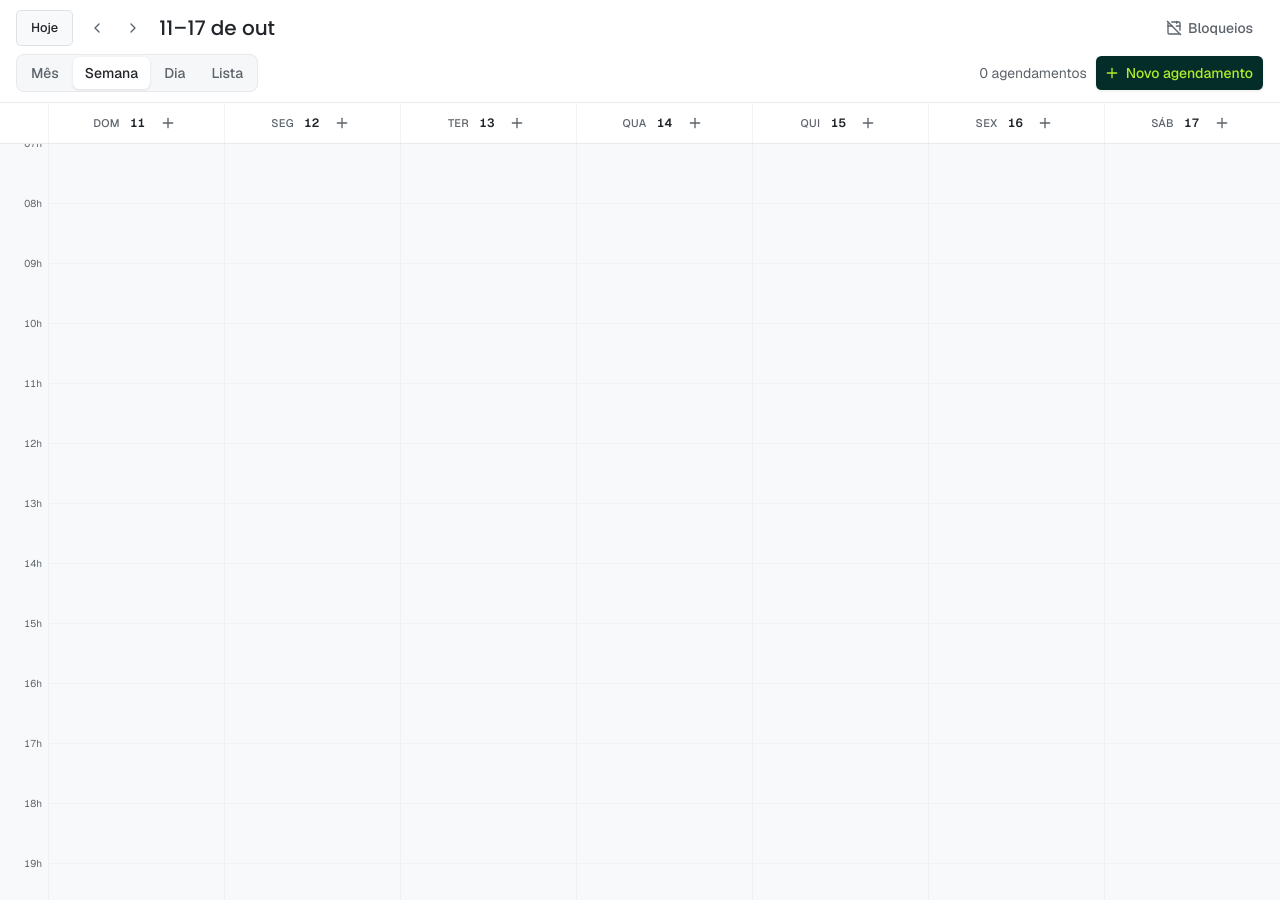
Test: AgendaCalendar › 'Novo agendamento' da faixa abre no dia em tela na semana
What coordinates should you click on to do the following:
click the button "Novo agendamento"
I would click on:
 (1179, 73)
Its box is [1095,55,1264,91].
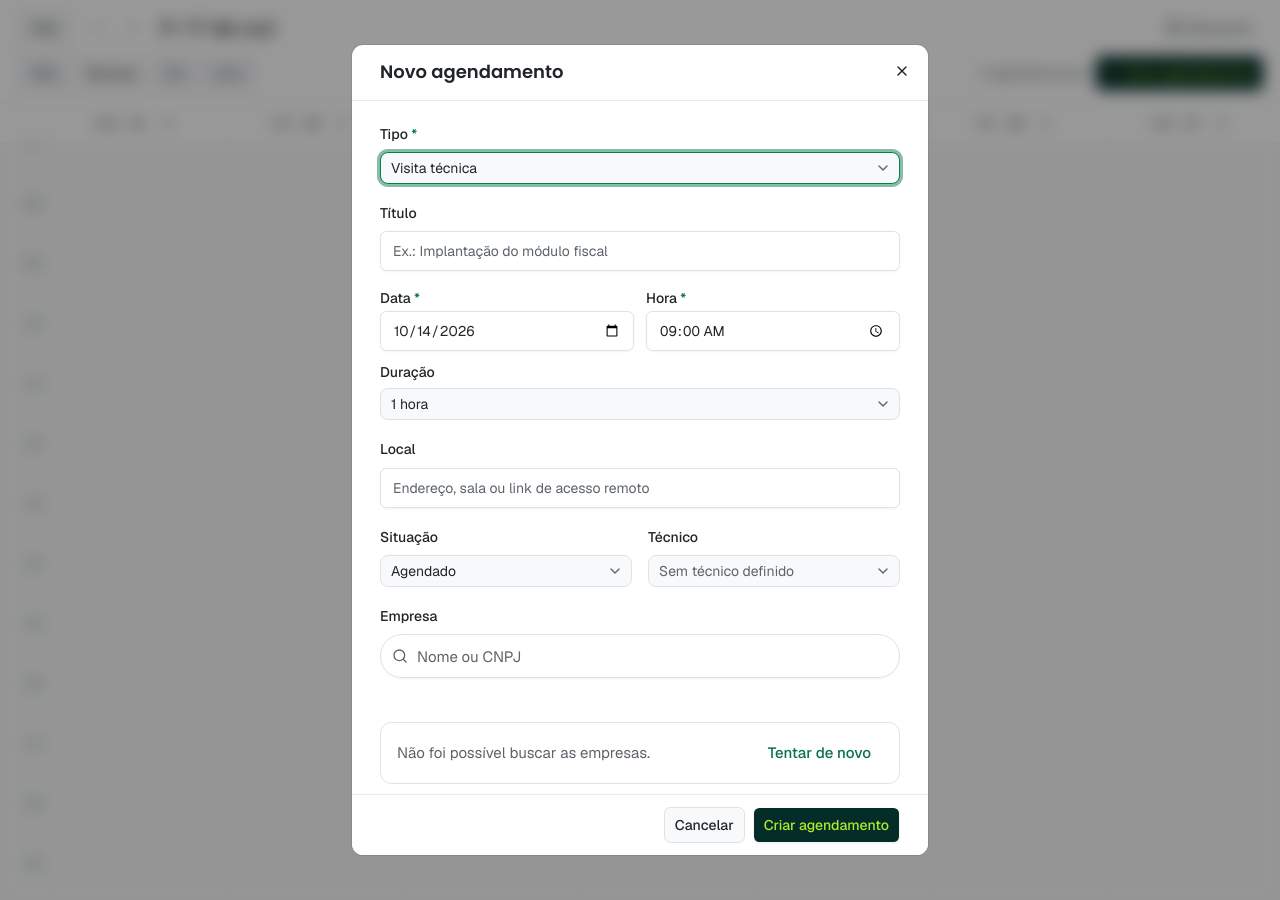
Expected: the date field labelled "Data *" holds "2026-10-14", [380,311,634,351]
